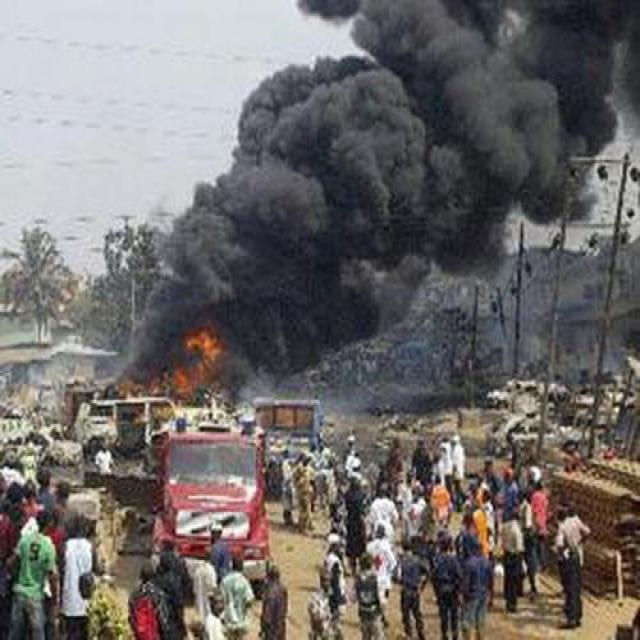Fire: (169, 329, 223, 394)
Smoke: (103, 1, 640, 401)
